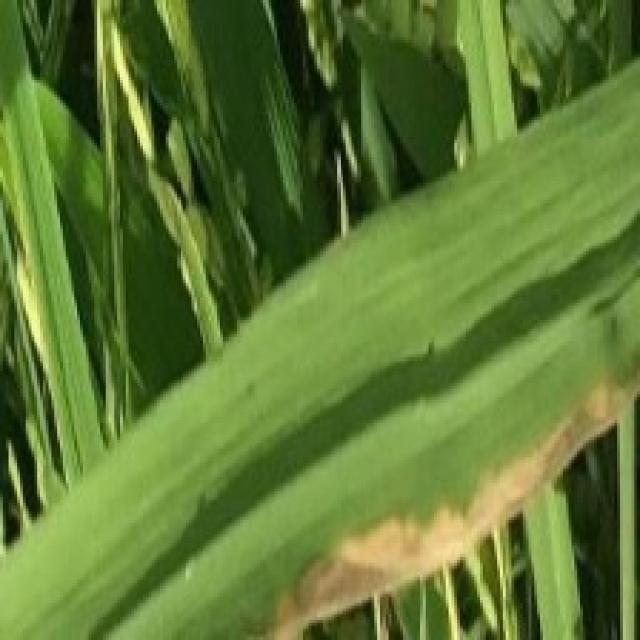Rice___Bacterial_Leaf_Blight: (0, 51, 637, 637)
